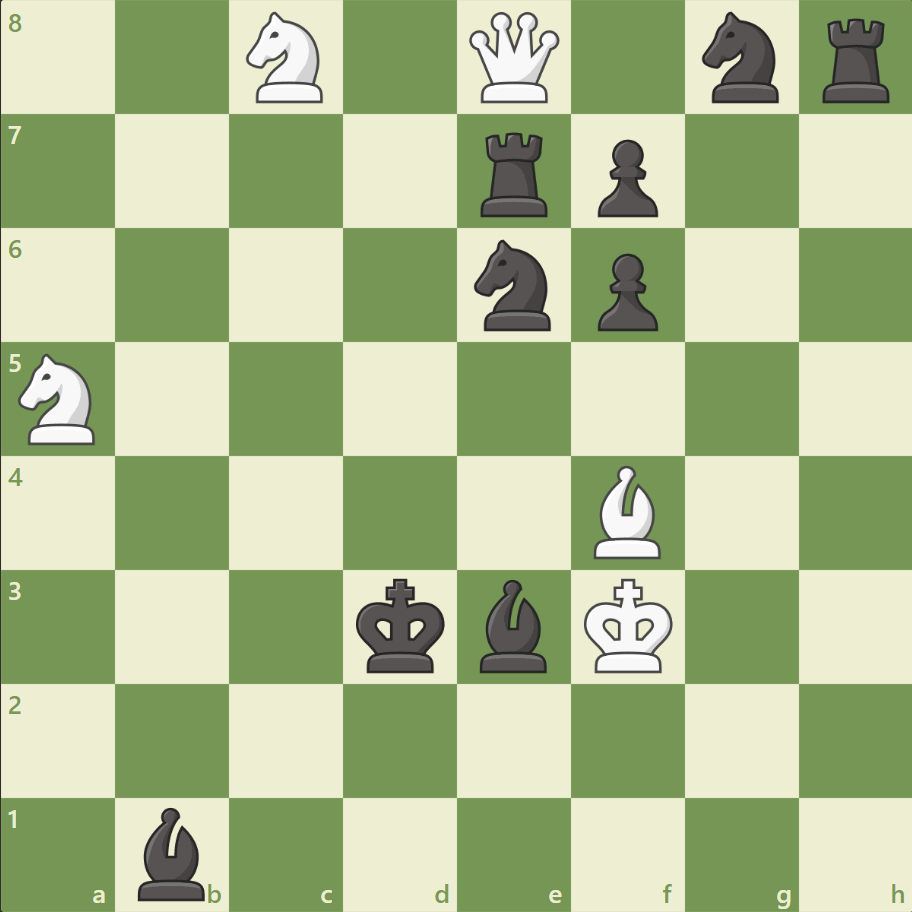B: (585, 460, 669, 563)
K: (579, 571, 679, 679)
N: (238, 7, 335, 110), (11, 348, 108, 450)
Q: (464, 9, 563, 108)
b: (131, 801, 215, 904), (471, 574, 555, 676)
k: (351, 571, 451, 679)
n: (692, 7, 789, 110), (465, 234, 562, 337)
p: (588, 132, 662, 223), (588, 246, 662, 337)
r: (814, 12, 897, 109), (473, 125, 556, 222)
